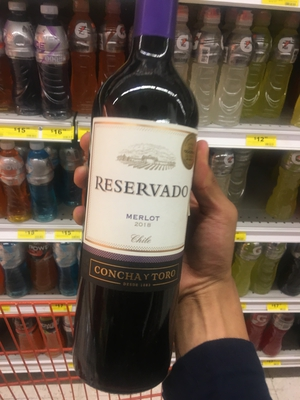reservado merlot: (75, 23, 214, 374)
